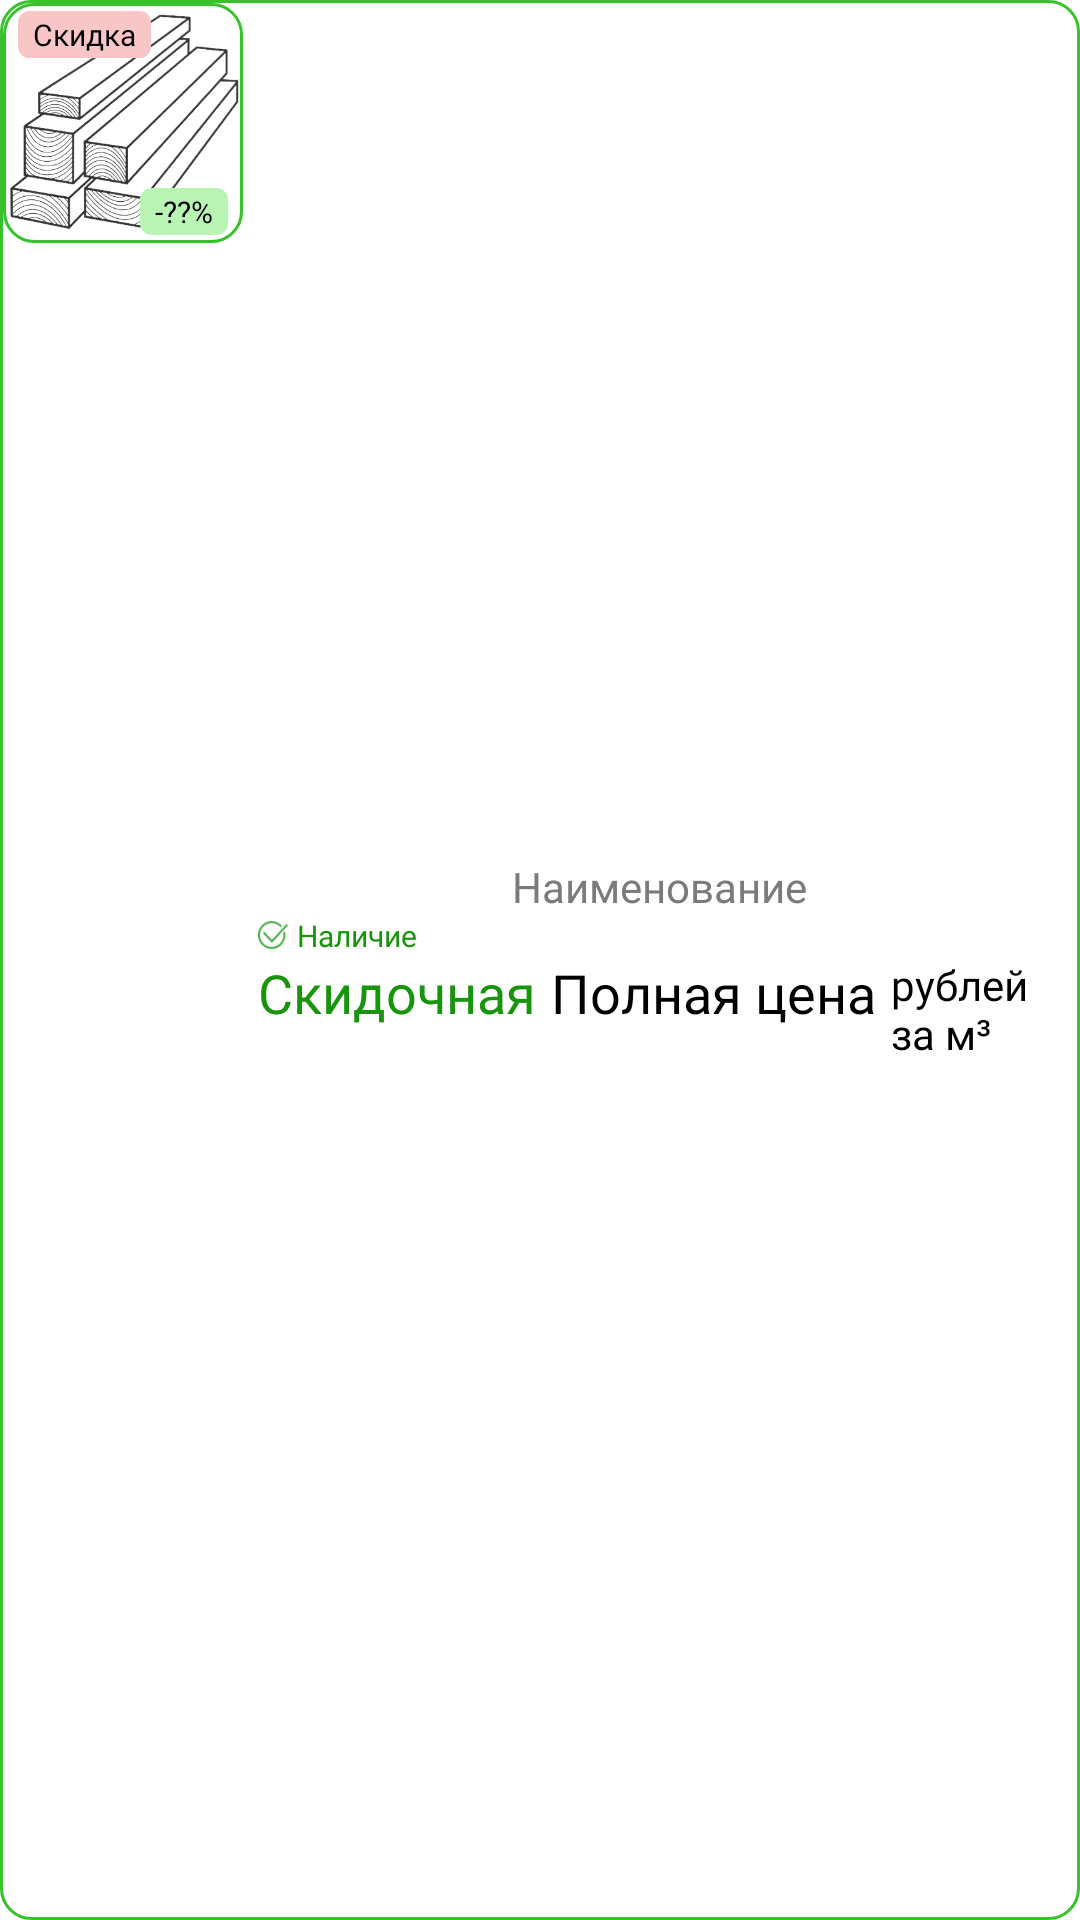

Where to tap for icons on this 1080x1920 app screen, as (x=x, y=y):
check mark: (x=273, y=935)
lumber bez foto: (x=124, y=123)
